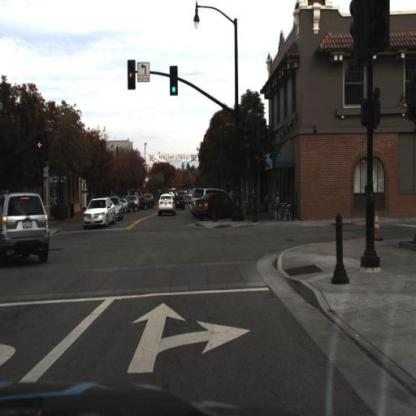car: (1, 191, 52, 269), (190, 188, 226, 219), (196, 191, 237, 217), (85, 197, 116, 229), (158, 193, 176, 213), (114, 196, 124, 220), (174, 196, 185, 215), (121, 200, 127, 216)
trafficLight: (128, 61, 135, 88), (38, 138, 44, 160)
trafficLight-Green: (169, 65, 177, 96)
